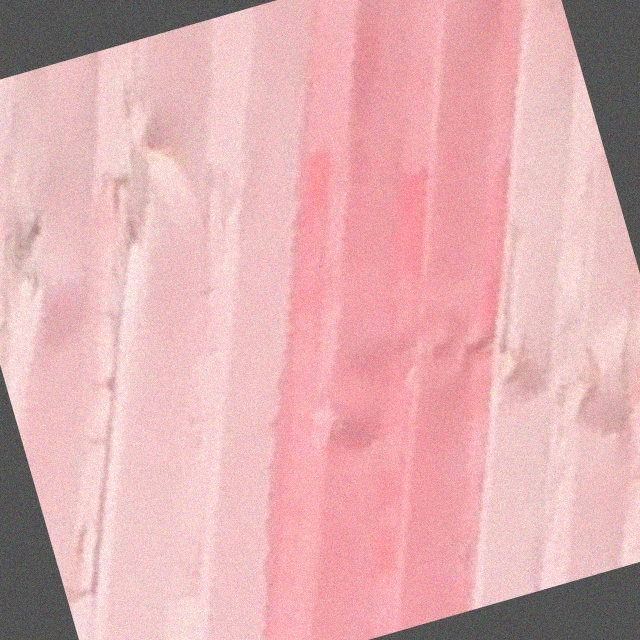Dent: (291, 269, 640, 521), (1, 81, 270, 353)
